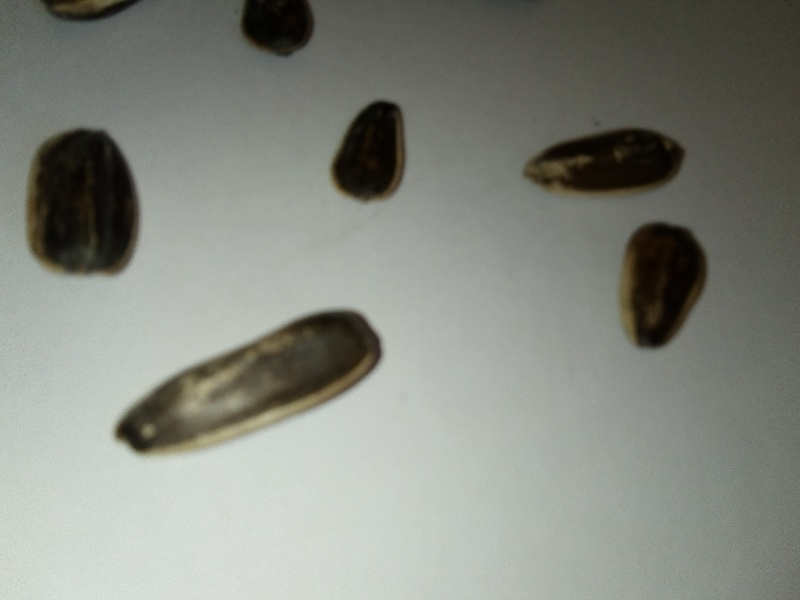w: (110, 296, 396, 482), (19, 118, 157, 285), (613, 216, 716, 356)
